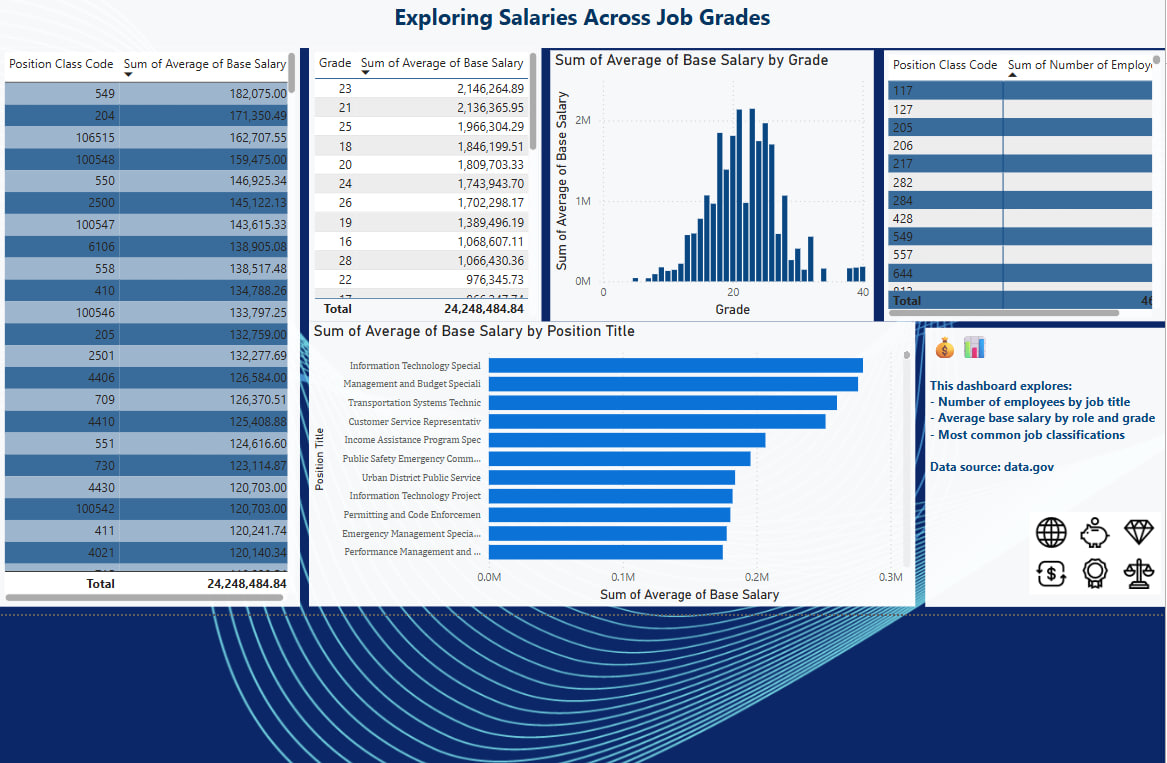

What the dashboard file says about the page in this screenshot:
{"tool":"powerbi","page":{"name":"Page 1","canvas":[1280,720],"ordinal":0},"visuals":[{"type":"tableEx","fields":{"Values":["Average_Salary_by_Job_Classification.Position Class Code","Sum(Average_Salary_by_Job_Classification.Average of Base Salary)"]},"box":[0,97.4,330.7,613.4],"z":0},{"type":"lineClusteredColumnComboChart","fields":{"Category":["Average_Salary_by_Job_Classification.Grade"],"Y":["Sum(Average_Salary_by_Job_Classification.Average of Base Salary)"]},"box":[605.1,100.2,355.4,297.8],"z":1000},{"type":"clusteredBarChart","fields":{"Category":["Average_Salary_by_Job_Classification.Position Title"],"Y":["Sum(Average_Salary_by_Job_Classification.Average of Base Salary)"]},"box":[340.3,397.9,665.5,312.9],"z":2000},{"type":"pivotTable","fields":{"Values":["Sum(Average_Salary_by_Job_Classification.Number of Employees)"],"Rows":["Average_Salary_by_Job_Classification.Position Class Code"]},"box":[971.5,100.2,308.7,297.8],"z":3000},{"type":"textbox","box":[0,42.5,1280.3,54.9],"z":4000},{"type":"tableEx","fields":{"Values":["Average_Salary_by_Job_Classification.Grade","Sum(Average_Salary_by_Job_Classification.Average of Base Salary)"]},"box":[340.3,97.4,255.2,300.5],"z":5000},{"type":"textbox","box":[1016.8,404.8,263.5,306],"z":5001},{"type":"image","box":[1126.6,594.2,153.7,116.6],"z":5002}]}

Visuals, with their boxes in screenshot pixels (x1, y1, x2, y2):
tableEx - Average_Salary_by_Job_Classification.Position Class Code x Sum(Average_Salary_by_Job_Classification.Average of Base Salary): left=0, top=51, right=297, bottom=603
lineClusteredColumnComboChart - Average_Salary_by_Job_Classification.Grade x Sum(Average_Salary_by_Job_Classification.Average of Base Salary): left=544, top=54, right=864, bottom=321
clusteredBarChart - Average_Salary_by_Job_Classification.Position Title x Sum(Average_Salary_by_Job_Classification.Average of Base Salary): left=306, top=321, right=904, bottom=603
pivotTable - Sum(Average_Salary_by_Job_Classification.Number of Employees) x Average_Salary_by_Job_Classification.Position Class Code: left=873, top=54, right=1151, bottom=321
textbox: left=0, top=2, right=1151, bottom=51
tableEx - Average_Salary_by_Job_Classification.Grade x Sum(Average_Salary_by_Job_Classification.Average of Base Salary): left=306, top=51, right=535, bottom=321
textbox: left=914, top=327, right=1151, bottom=603
image: left=1013, top=498, right=1151, bottom=603
